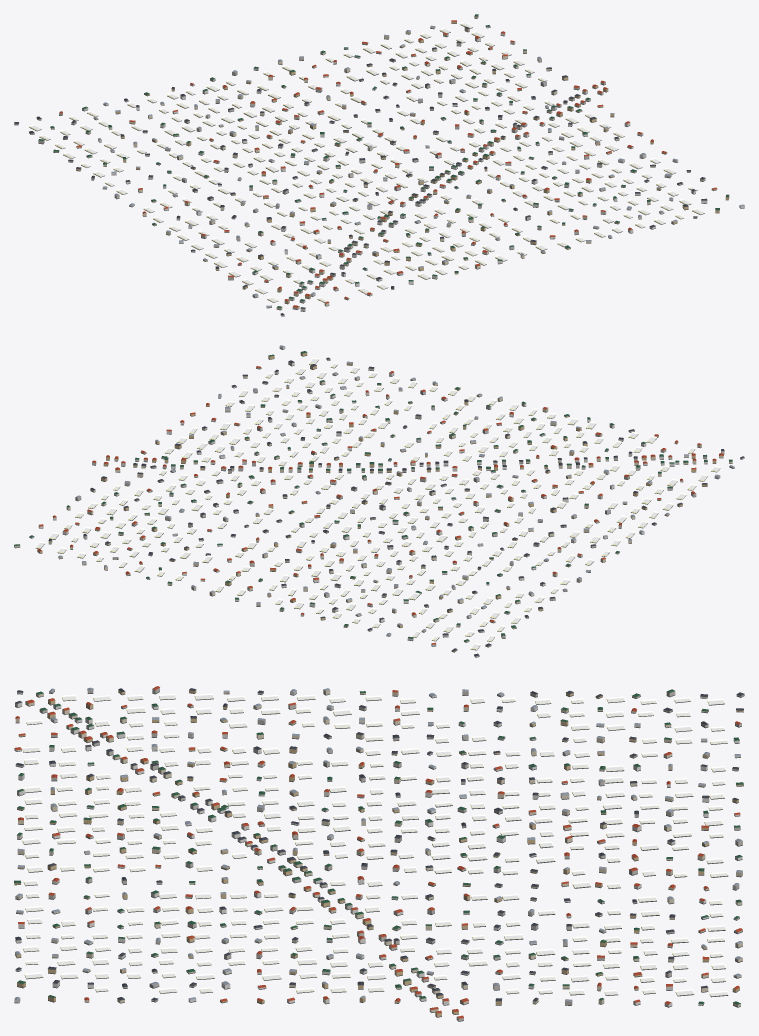
Rendered from buildings_T_E09_S01.glb.
3 renders of one model, top to bottom at view 1: azimuth 30°, elevation 25°; view 2: azimuth 150°, elevation 25°; view 3: azimuth 270°, elevation 25°, orthographic. The views are drawn at different scales.
Parts seen in each view (by area): view 1: T_E09_S01_roofs_agri_greenhouse_arch, T_E09_S01_slope_seating_foundations, T_E09_S01_walls_wall_dalat_cream_stucco, T_E09_S01_walls_wall_french_ochre_villa, T_E09_S01_walls_wall_modern_warm_white, T_E09_S01_walls_wall_pastel_sand_gray, T_E09_S01_roofs_roof_terracotta_gable, T_E09_S01_roofs_roof_slate_French_villa_hip, T_E09_S01_roofs_roof_pine_green_hip, T_E09_S01_roofs_roof_zinc_silver_gable; view 2: T_E09_S01_roofs_agri_greenhouse_arch, T_E09_S01_slope_seating_foundations, T_E09_S01_walls_wall_dalat_cream_stucco, T_E09_S01_walls_wall_french_ochre_villa, T_E09_S01_walls_wall_modern_warm_white, T_E09_S01_walls_wall_pastel_sand_gray, T_E09_S01_roofs_roof_terracotta_gable, T_E09_S01_roofs_roof_pine_green_hip, T_E09_S01_roofs_roof_slate_French_villa_hip, T_E09_S01_roofs_roof_zinc_silver_gable; view 3: T_E09_S01_roofs_agri_greenhouse_arch, T_E09_S01_slope_seating_foundations, T_E09_S01_walls_wall_dalat_cream_stucco, T_E09_S01_walls_wall_french_ochre_villa, T_E09_S01_walls_wall_modern_warm_white, T_E09_S01_walls_wall_pastel_sand_gray, T_E09_S01_roofs_roof_terracotta_gable, T_E09_S01_roofs_roof_slate_French_villa_hip, T_E09_S01_roofs_roof_pine_green_hip, T_E09_S01_roofs_roof_zinc_silver_gable.
Boxes of the visible parts, x1,y1,x2,y2 form: T_E09_S01_roofs_agri_greenhouse_arch: [29, 22, 704, 302]; T_E09_S01_slope_seating_foundations: [14, 17, 744, 316]; T_E09_S01_walls_wall_dalat_cream_stucco: [29, 15, 717, 309]; T_E09_S01_walls_wall_french_ochre_villa: [36, 21, 729, 303]; T_E09_S01_walls_wall_modern_warm_white: [82, 26, 744, 316]; T_E09_S01_walls_wall_pastel_sand_gray: [14, 42, 683, 307]; T_E09_S01_roofs_roof_terracotta_gable: [59, 20, 716, 307]; T_E09_S01_roofs_roof_slate_French_villa_hip: [14, 26, 707, 315]; T_E09_S01_roofs_roof_pine_green_hip: [38, 14, 729, 307]; T_E09_S01_roofs_roof_zinc_silver_gable: [93, 25, 744, 306]; T_E09_S01_roofs_agri_greenhouse_arch: [35, 357, 720, 649]; T_E09_S01_slope_seating_foundations: [14, 348, 744, 657]; T_E09_S01_walls_wall_dalat_cream_stucco: [14, 367, 732, 646]; T_E09_S01_walls_wall_french_ochre_villa: [37, 352, 716, 651]; T_E09_S01_walls_wall_modern_warm_white: [29, 346, 744, 640]; T_E09_S01_walls_wall_pastel_sand_gray: [75, 379, 734, 656]; T_E09_S01_roofs_roof_terracotta_gable: [37, 366, 723, 644]; T_E09_S01_roofs_roof_pine_green_hip: [14, 351, 732, 641]; T_E09_S01_roofs_roof_slate_French_villa_hip: [48, 357, 744, 656]; T_E09_S01_roofs_roof_zinc_silver_gable: [58, 345, 734, 635]; T_E09_S01_roofs_agri_greenhouse_arch: [22, 693, 728, 996]; T_E09_S01_slope_seating_foundations: [14, 691, 744, 1021]; T_E09_S01_walls_wall_dalat_cream_stucco: [15, 689, 742, 1012]; T_E09_S01_walls_wall_french_ochre_villa: [14, 690, 743, 1017]; T_E09_S01_walls_wall_modern_warm_white: [14, 691, 742, 1006]; T_E09_S01_walls_wall_pastel_sand_gray: [16, 688, 744, 1021]; T_E09_S01_roofs_roof_terracotta_gable: [14, 686, 742, 1018]; T_E09_S01_roofs_roof_slate_French_villa_hip: [15, 688, 744, 1001]; T_E09_S01_roofs_roof_pine_green_hip: [14, 689, 743, 1004]; T_E09_S01_roofs_roof_zinc_silver_gable: [14, 687, 742, 1001].
Size of the model in its own units: 1842 by 39.44 by 1753.
